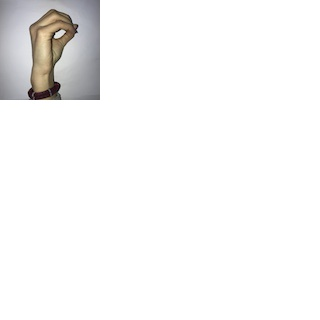rock: (16, 5, 79, 92)
